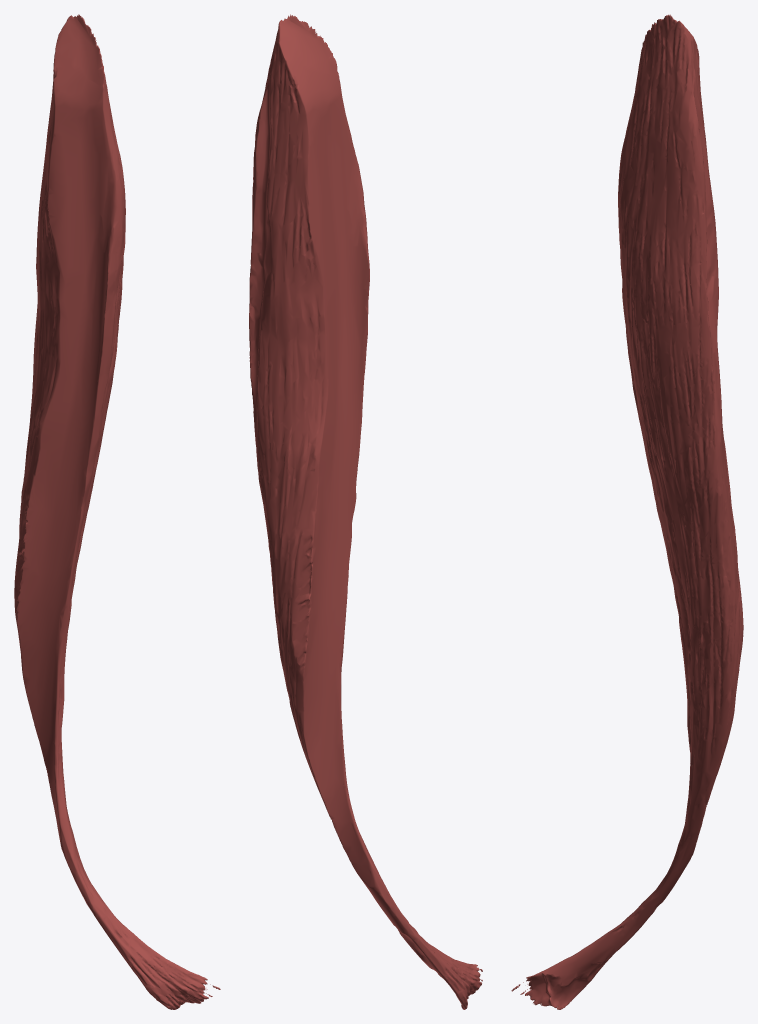
The model's file is FMA22545.glb.
3 views of the same model, side by side, from view 1: azimuth 90°, elevation 25°; view 2: azimuth 150°, elevation 25°; view 3: azimuth 270°, elevation 25° (orthographic). The views are drawn at different scales.
Parts seen in each view (by area): view 1: FMA22545; view 2: FMA22545; view 3: FMA22545.
Boxes of the visible parts, bbox=[...] form: FMA22545: bbox=[14, 14, 220, 1009]; FMA22545: bbox=[249, 14, 482, 1009]; FMA22545: bbox=[511, 14, 743, 1009].
Bounding box in the file's own units: 0.0589 × 0.3568 × 0.071.
